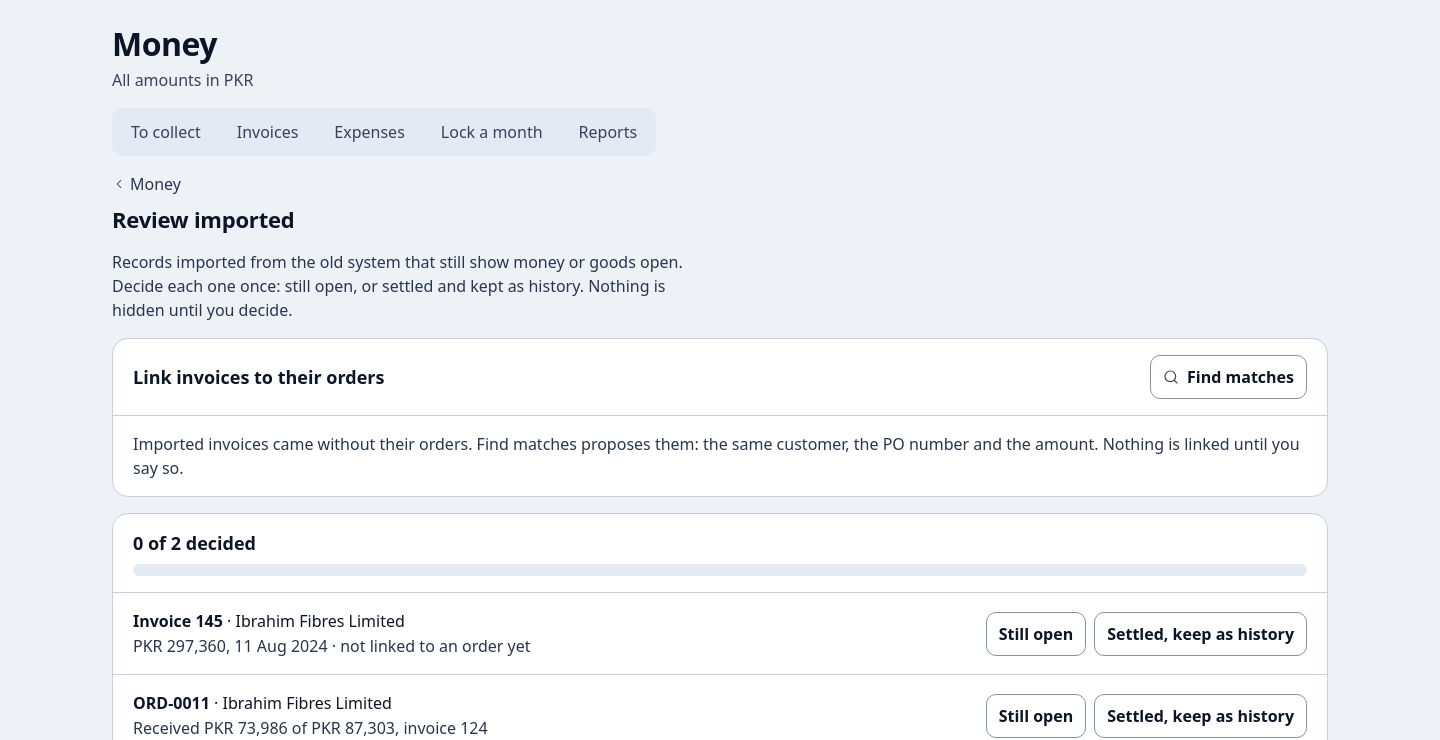
Test: Review imported page › two rows decided back to back each keep their own result (one mutation per row)
Click the button "Settled, keep as history" in the row of "ORD-0011" at [1201, 716], box [1094,694,1307,738]
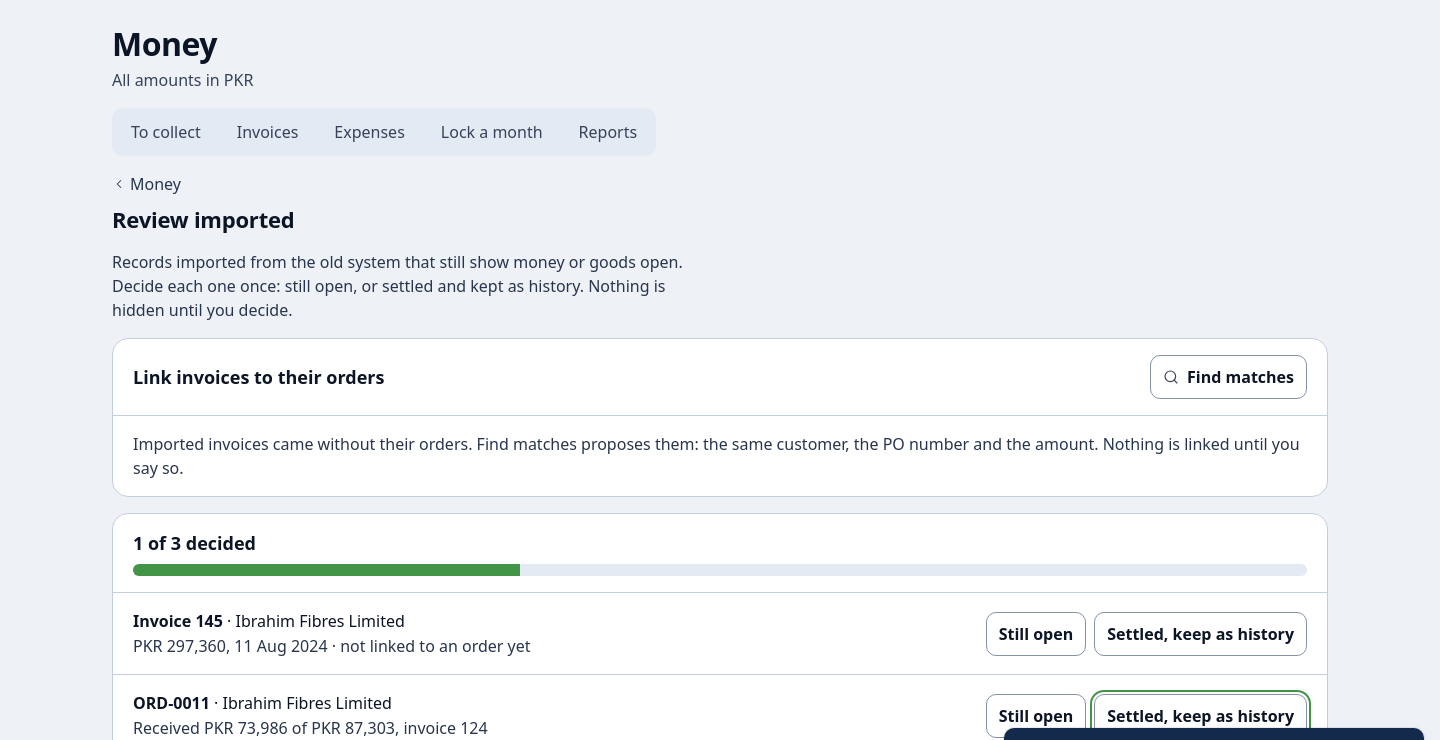
Click the button "Settled, keep as history" in the row of "Invoice 145" at [1201, 634], box [1094,612,1307,656]
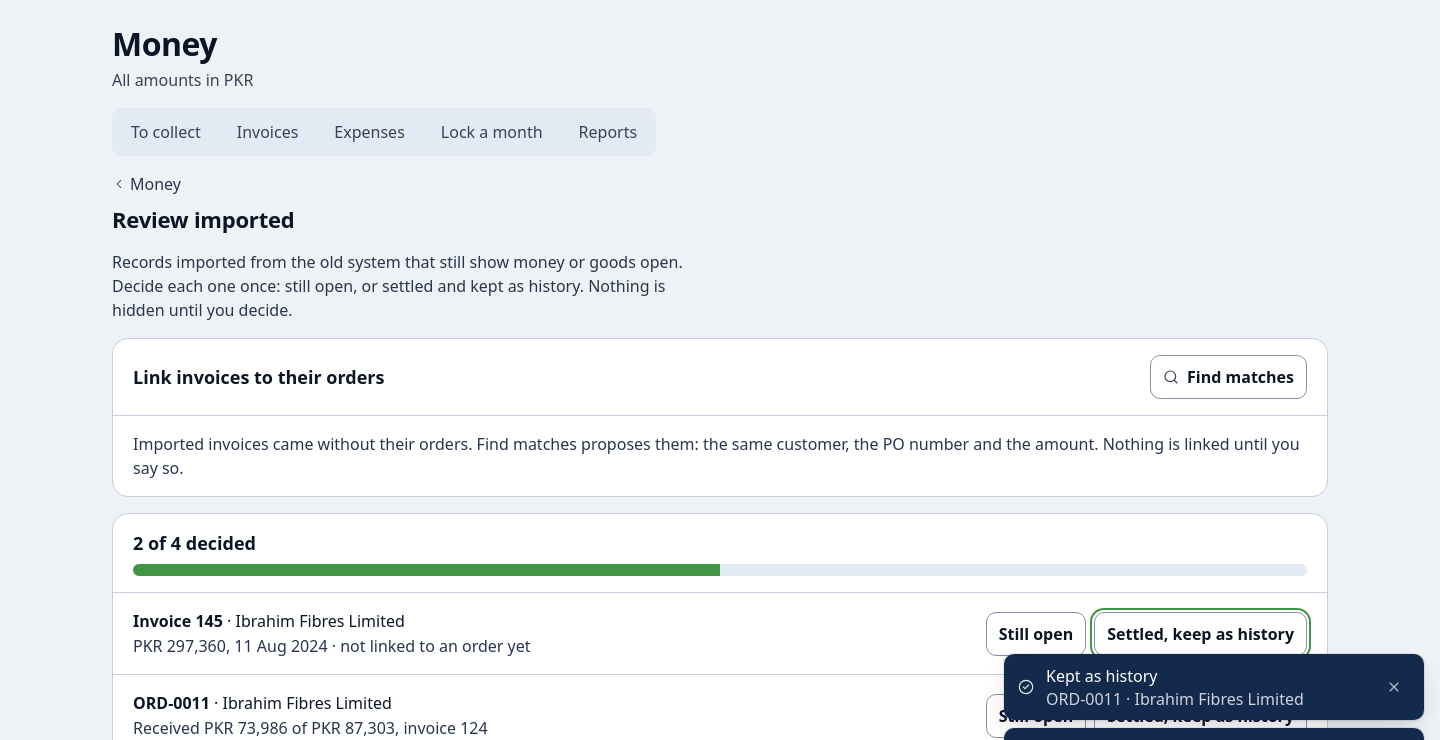
Expected: the number of list items with test id "review-settled-here" is 2
